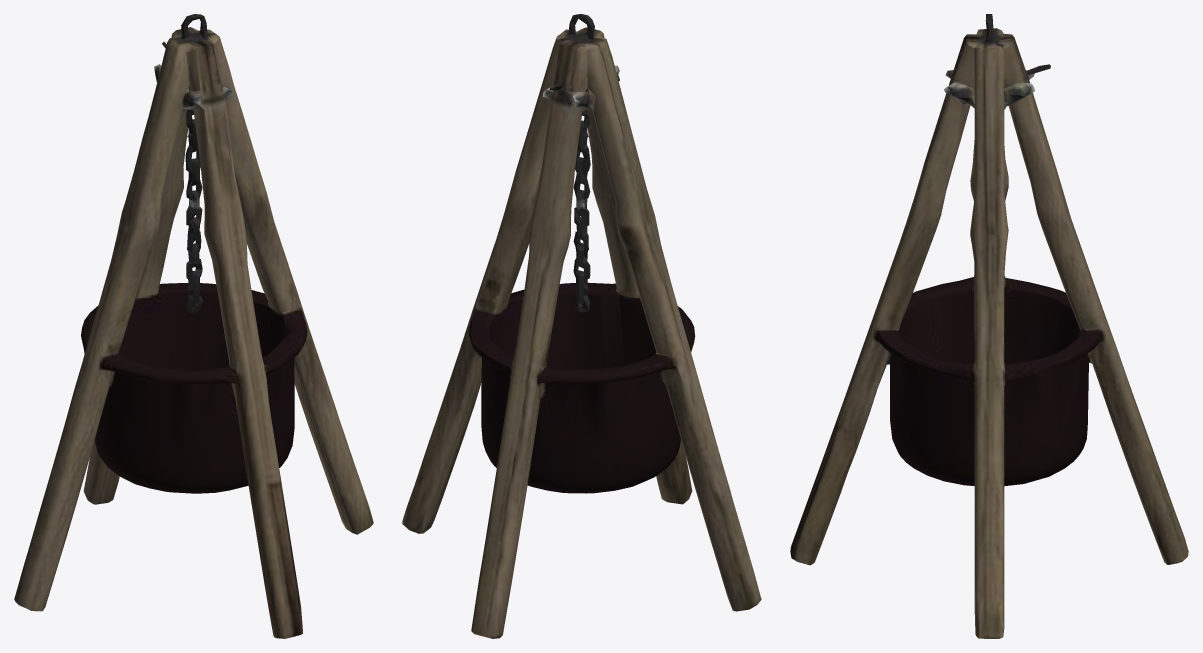
The model's file is tripod.glb.
3 views of the same model, side by side, from view 1: azimuth 30°, elevation 25°; view 2: azimuth 150°, elevation 25°; view 3: azimuth 270°, elevation 25° (orthographic).
Visible parts, largest first — view 1: tripod; view 2: tripod; view 3: tripod.
Part boxes in pixels (x1,y1,x2,y2): tripod: [14, 14, 373, 638]; tripod: [402, 14, 761, 638]; tripod: [790, 14, 1188, 638].
Size of the model in its own units: 0.893 by 1.35 by 0.8918.
Materials: 1 (1 with a texture image).
